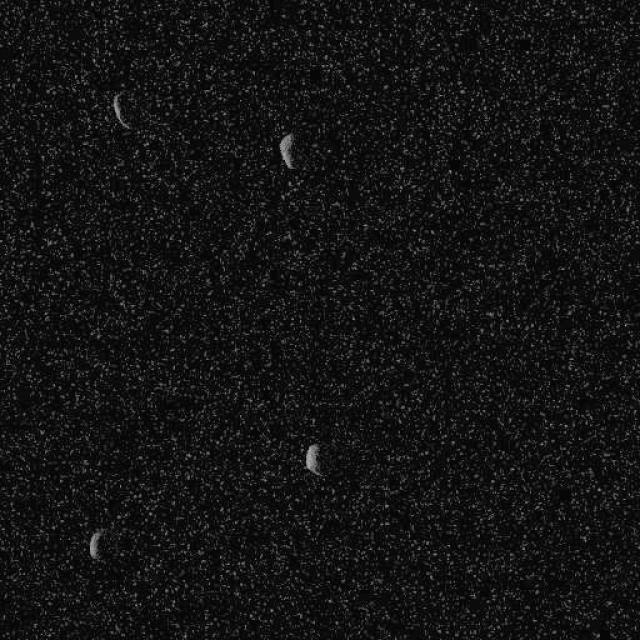D2: (110, 90, 131, 130), (304, 442, 324, 477), (278, 132, 296, 168), (88, 529, 104, 560)
